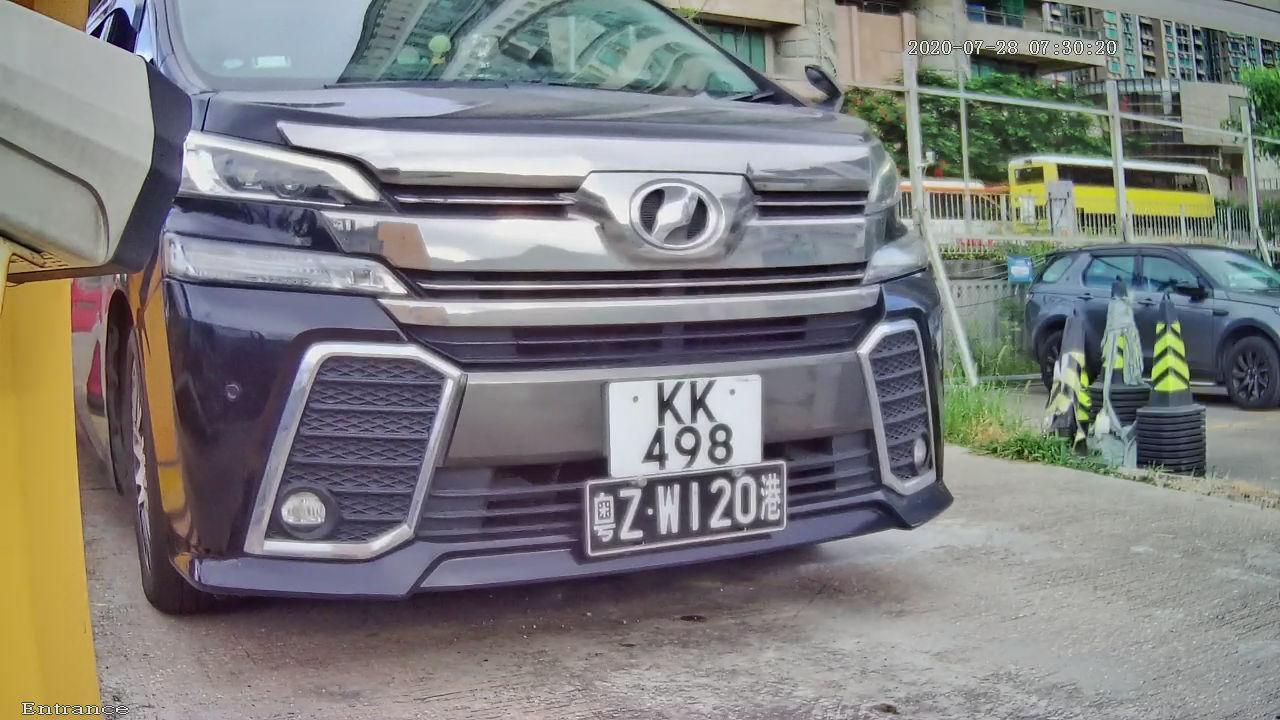privatecar: (1, 1, 1143, 669)
